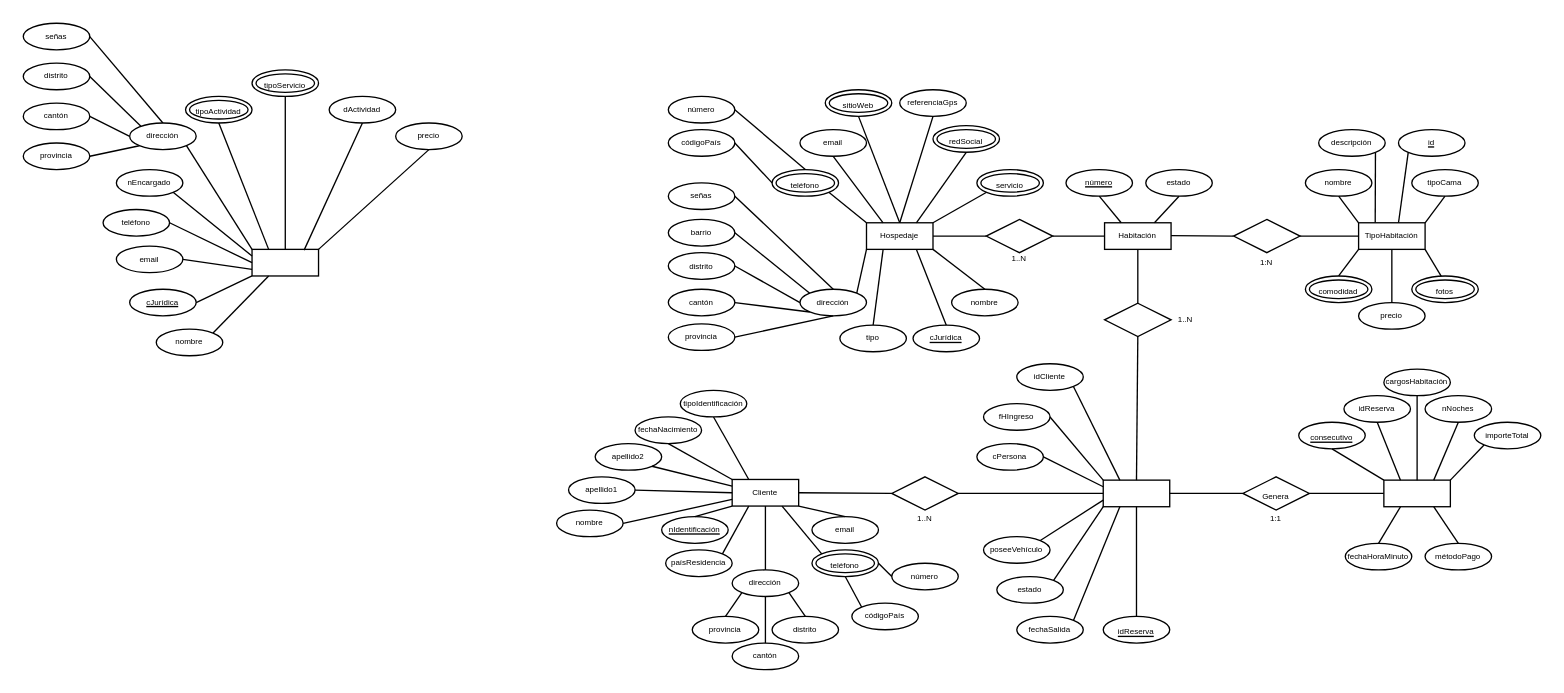
This 1564x693 diagram has some shape labels left out. The shapes that lost their labels are listed below. From the top down, each one's centre as x and y in pixels, then its label:
At [1019,235]: "Registra".
At [1266,235]: "Pertence a".
At [285,262]: "EmpresaRecreación".
At [1137,319]: "Se Asigna a".
At [924,492]: "Realiza".
At [1136,493]: "Reservación".
At [1416,493]: "Facturación".
